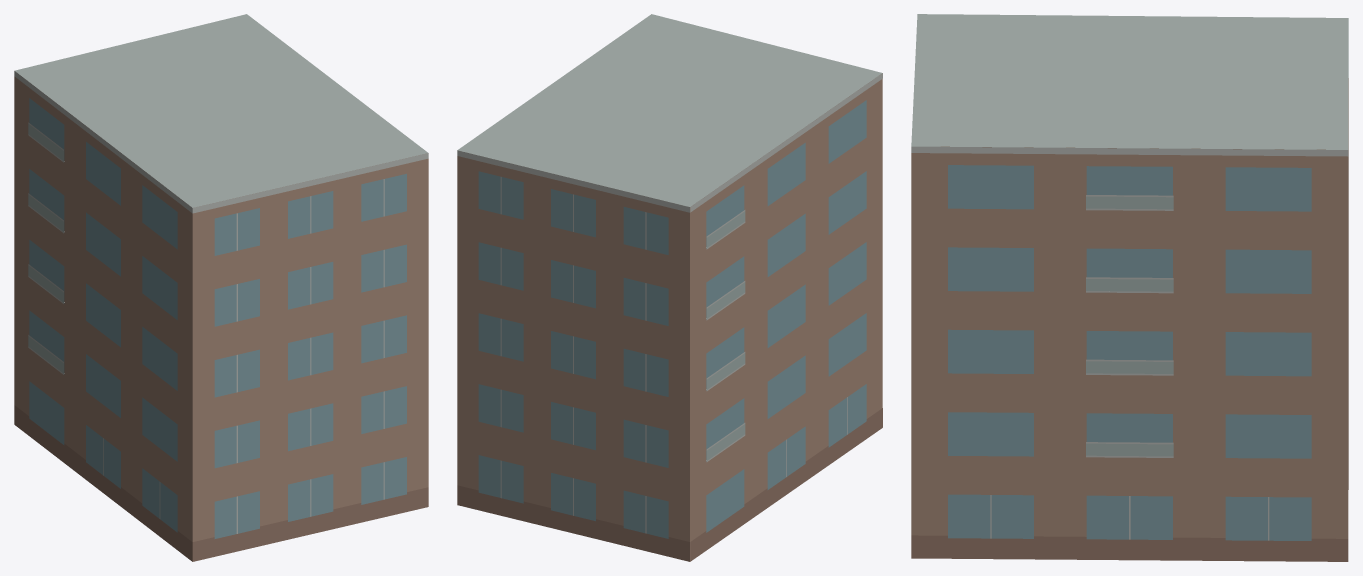
File: survey-upis-32545853.glb
The picture shows the model from 3 angles, left to right: view 1: azimuth 30°, elevation 25°; view 2: azimuth 150°, elevation 25°; view 3: azimuth 270°, elevation 25°; orthographic projection. The views are drawn at different scales.
Parts seen in each view (by area): view 1: survey-upis-32545853.tmp; view 2: survey-upis-32545853.tmp; view 3: survey-upis-32545853.tmp.
Part boxes in pixels (x1,y1,x2,y2): survey-upis-32545853.tmp: (14,14,428,561); survey-upis-32545853.tmp: (457,14,882,561); survey-upis-32545853.tmp: (911,14,1348,561).
Size of the model in its own units: 10.91 by 15.4 by 14.83.
